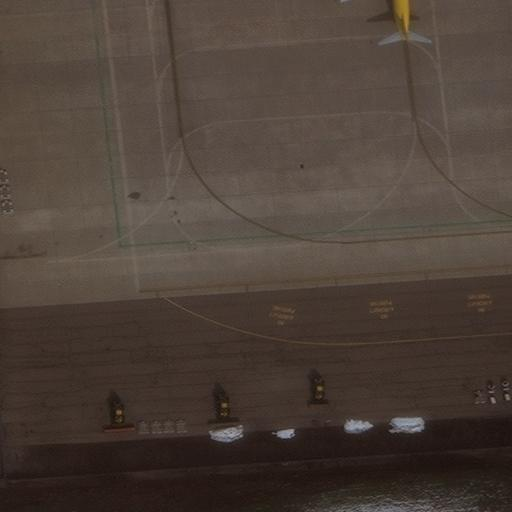Medium Civil Transport: (344, 0, 452, 42)
